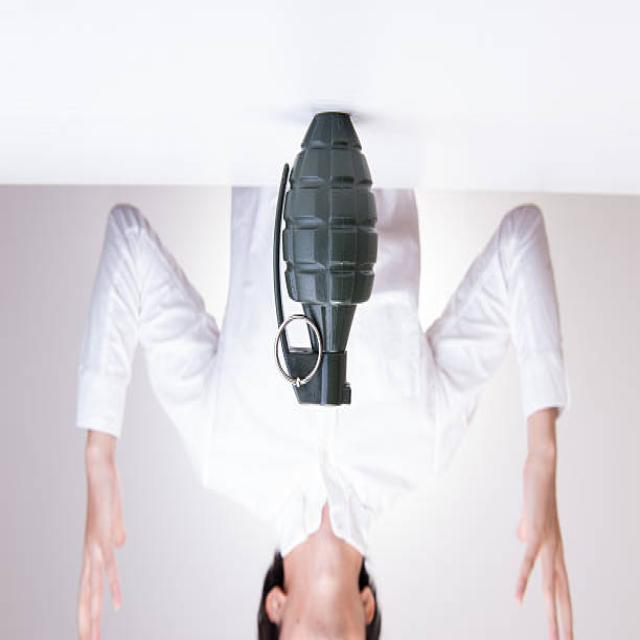grenade: (267, 105, 383, 422)
